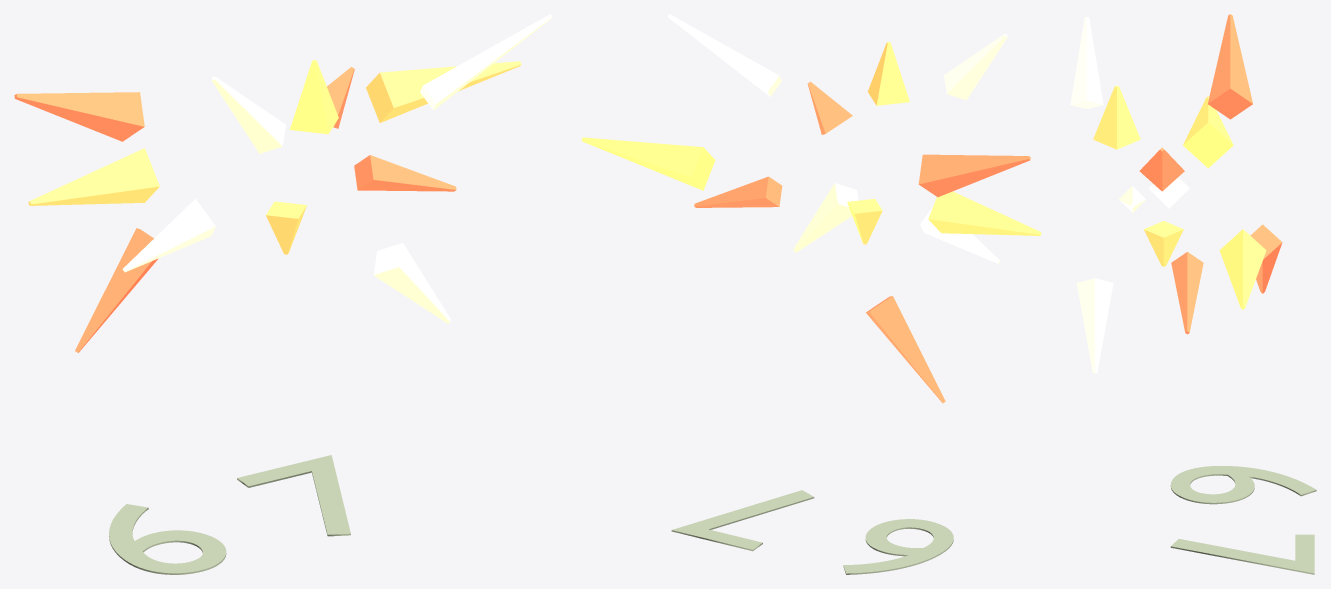
File: sixty.glb
The picture shows the model from 3 angles, left to right: view 1: azimuth 30°, elevation 25°; view 2: azimuth 150°, elevation 25°; view 3: azimuth 270°, elevation 25°; orthographic projection. The views are drawn at different scales.
Visible parts, largest first — view 1: 67 Pop dimensional effect.001, 67 Pop; view 2: 67 Pop dimensional effect.001, 67 Pop; view 3: 67 Pop dimensional effect.001, 67 Pop.
Boxes of the visible parts, x1,y1,x2,y2 form: 67 Pop dimensional effect.001: (14,14,552,352); 67 Pop: (109,455,350,574); 67 Pop dimensional effect.001: (581,14,1041,403); 67 Pop: (671,490,953,574); 67 Pop dimensional effect.001: (1070,14,1282,373); 67 Pop: (1170,466,1316,574).
Size of the model in its own units: 1.32 by 1.32 by 0.65.
